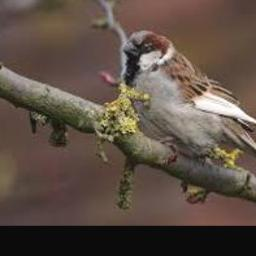Sparrow: (123, 29, 256, 186)
